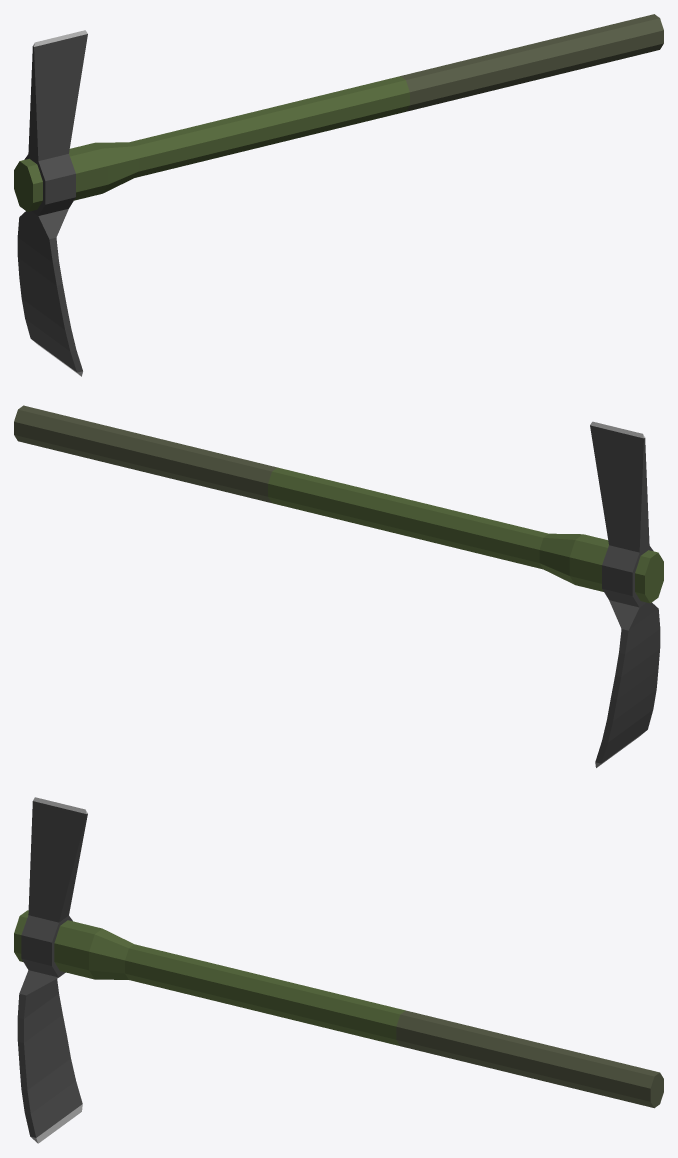
Rendered from ArmyMattock.fbx.
3 renders of one model, top to bottom at view 1: azimuth 30°, elevation 25°; view 2: azimuth 150°, elevation 25°; view 3: azimuth 330°, elevation 25°, orthographic.
Visible parts, largest first — view 1: ZomboidArmyMattock; view 2: ZomboidArmyMattock; view 3: ZomboidArmyMattock.
Part boxes in pixels (<box>): ZomboidArmyMattock: <box>14,14,663,376</box>; ZomboidArmyMattock: <box>14,405,663,767</box>; ZomboidArmyMattock: <box>14,797,663,1143</box>.
Size of the model in its own units: 0.6732 by 0.3296 by 0.0856.
